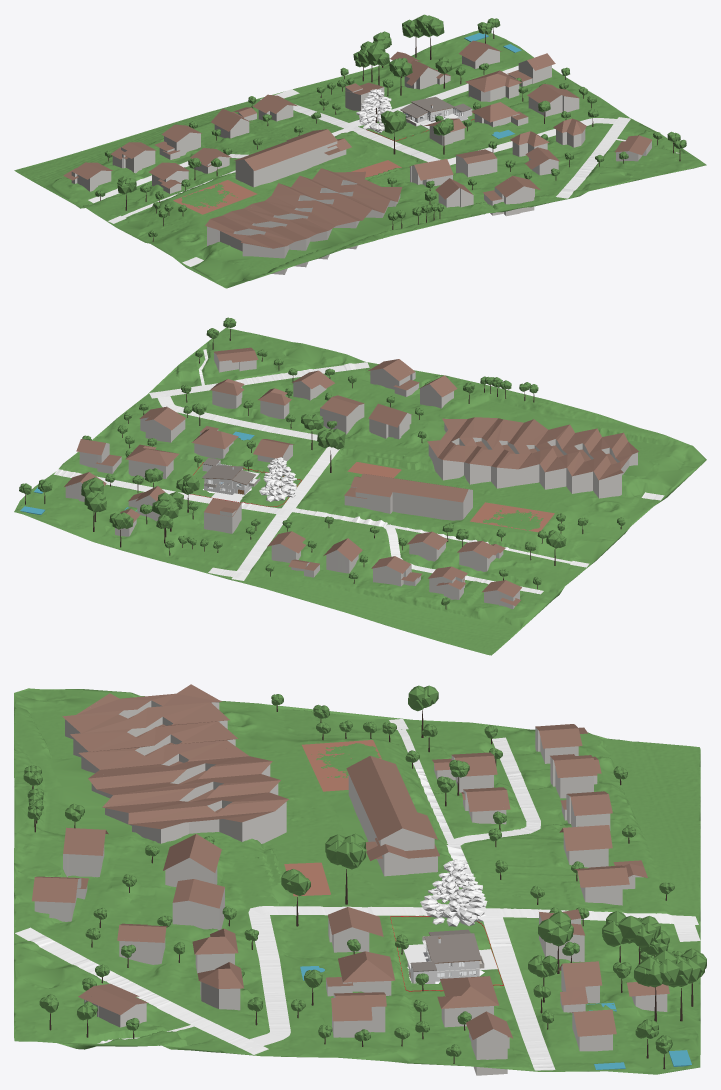
Rendered from house.glb.
3 views of the same model, one above another, from view 1: azimuth 30°, elevation 25°; view 2: azimuth 150°, elevation 25°; view 3: azimuth 270°, elevation 25° (orthographic). The views are drawn at different scales.
Parts seen in each view (by area): view 1: Terrain, Voisin_12, Arbres_TLM_Crowns, Voisin_21, Voisin_08, Voisin_27, Route_10_Schulweg, Voisin_22, Voisin_05, Voisin_14, Arbre_NO_Crown, Voisin_19 (+21 smaller); view 2: Terrain, Voisin_12, Arbres_TLM_Crowns, Voisin_21, Route_10_Schulweg, Voisin_08, Voisin_22, Voisin_27, Arbre_NO_Crown, Voisin_13, Voisin_06, Voisin_05 (+22 smaller); view 3: Terrain, Voisin_12, Arbres_TLM_Crowns, Voisin_21, Route_10_Schulweg, Route_09_Kürzestrasse, Arbre_NO_Crown, Route_16_Lohngasse, Voisin_19, Voisin_22, Voisin_27, Voisin_13 (+29 smaller).
Boxes of the visible parts, box(x1,y1,x2,y2) form: Terrain: box(14, 30, 706, 288); Voisin_12: box(205, 168, 402, 274); Arbres_TLM_Crowns: box(95, 14, 686, 237); Voisin_21: box(234, 129, 351, 187); Voisin_08: box(483, 175, 540, 216); Voisin_27: box(465, 70, 521, 101); Route_10_Schulweg: box(349, 118, 623, 165); Voisin_22: box(527, 84, 579, 116); Voisin_05: box(154, 124, 201, 159); Voisin_14: box(110, 142, 156, 173); Arbre_NO_Crown: box(356, 89, 391, 132); Voisin_19: box(471, 102, 528, 127); Terrain: box(14, 328, 706, 655); Voisin_12: box(427, 417, 638, 498); Arbres_TLM_Crowns: box(19, 317, 625, 605); Voisin_21: box(344, 473, 472, 520); Route_10_Schulweg: box(156, 393, 339, 508); Voisin_08: box(368, 359, 419, 396); Voisin_22: box(139, 406, 185, 442); Voisin_27: box(125, 444, 178, 479); Arbre_NO_Crown: box(259, 457, 296, 501); Voisin_13: box(368, 403, 412, 439); Voisin_06: box(204, 498, 241, 533); Voisin_05: box(371, 556, 422, 586); Terrain: box(14, 688, 700, 1074); Voisin_12: box(62, 684, 288, 843); Arbres_TLM_Crowns: box(23, 685, 706, 1056); Voisin_21: box(346, 755, 439, 876); Route_10_Schulweg: box(244, 906, 427, 1048); Route_09_Kürzestrasse: box(483, 912, 555, 1070); Arbre_NO_Crown: box(420, 859, 487, 926); Route_16_Lohngasse: box(15, 927, 208, 1025); Voisin_19: box(326, 951, 394, 996); Voisin_22: box(331, 992, 386, 1037); Voisin_27: box(437, 976, 499, 1027); Voisin_13: box(163, 834, 221, 886).
Size of the model in its own units: 211 by 31.43 by 166.
Materials: 62 (4 with a texture image).
